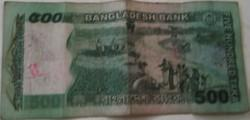500 taka: (7, 3, 246, 111)
